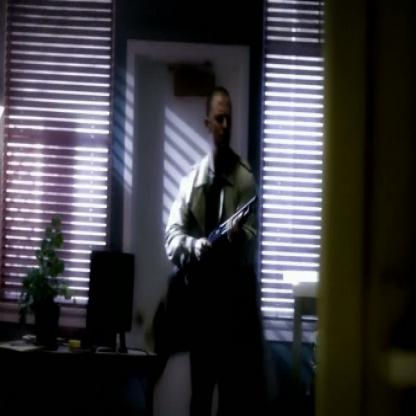Guns: (182, 193, 258, 281)
